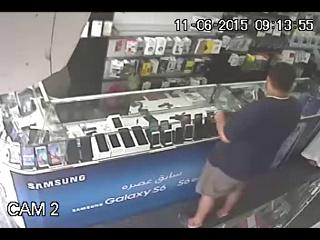Normal: (186, 61, 303, 228)
